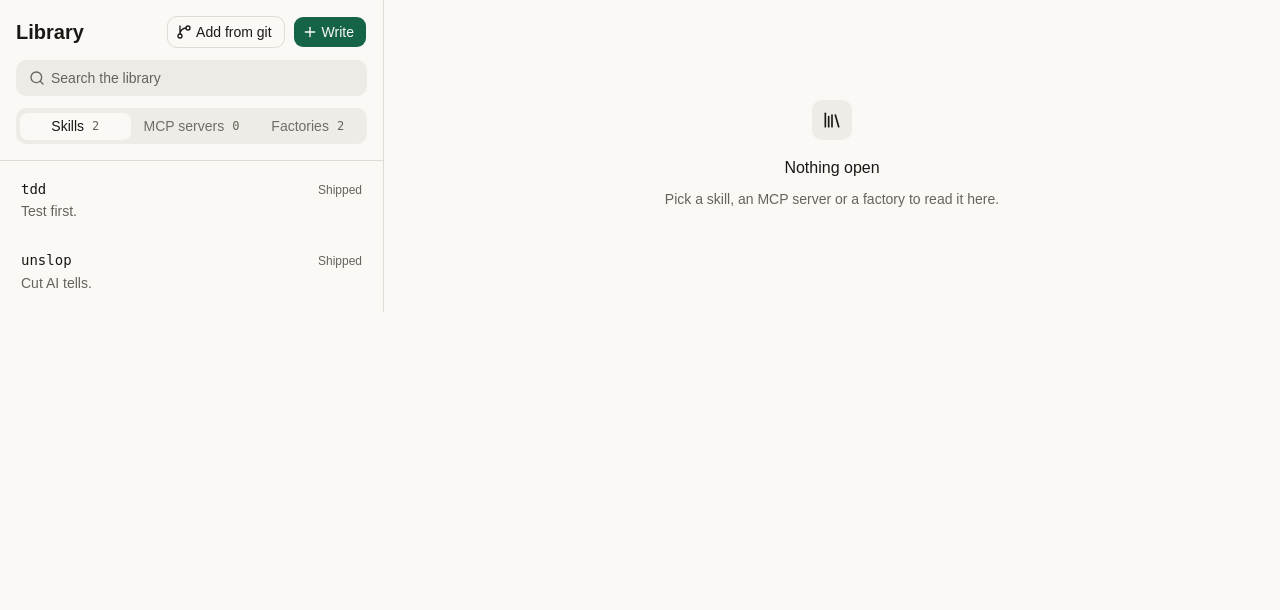
Test case: LibraryPage › opens a factory to read its factory file
The width and height of the screenshot is (1280, 610).
Click the tab "Factories 2" at x=308, y=126, box [252,112,363,140]
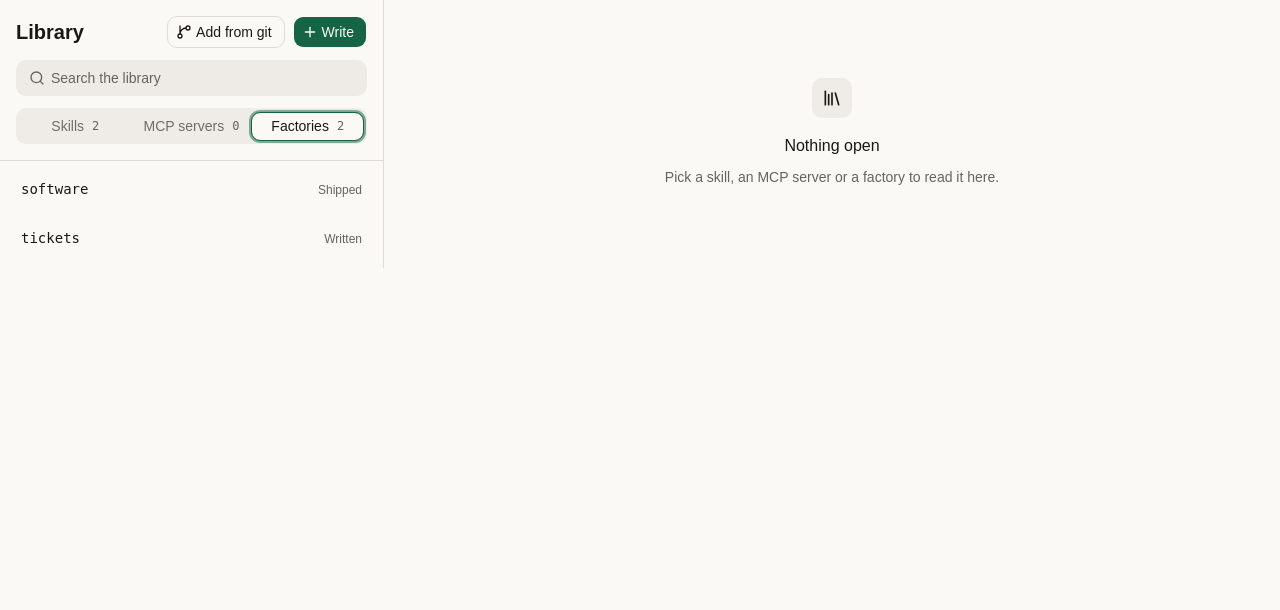
Click the button with aria-label "software, shipped factory" at x=55, y=189, box [8,169,375,210]
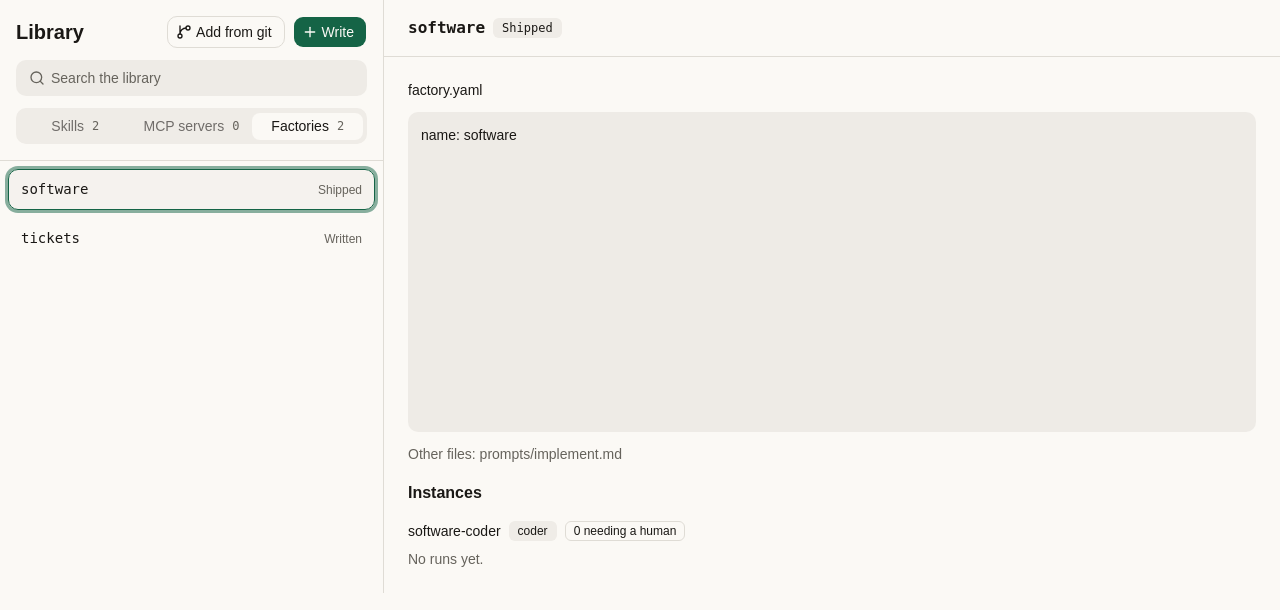
Now the text "Other files: prompts/implement.md" is shown, box [408,446,622,462]
